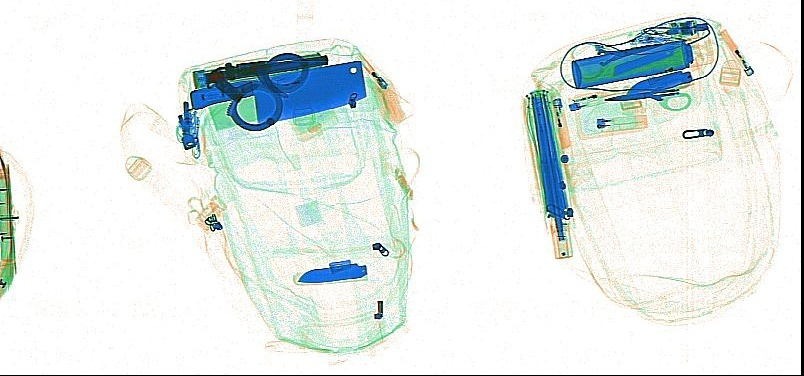handcuffs: (202, 51, 308, 130)
knife: (189, 60, 365, 123), (612, 44, 673, 75), (626, 70, 692, 95), (295, 263, 367, 284)
lighter: (719, 25, 755, 78), (355, 52, 387, 89), (567, 87, 620, 109), (552, 96, 570, 149), (596, 113, 646, 131)
pressure: (570, 34, 713, 88)
scissors: (570, 41, 662, 81), (603, 75, 691, 111)
